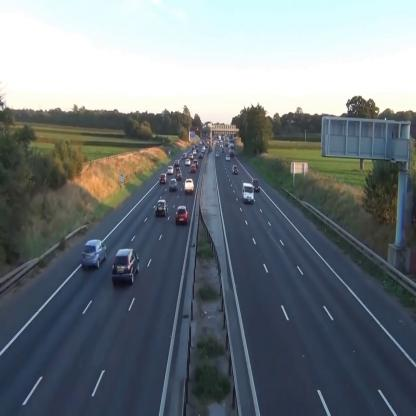car: (112, 248, 140, 284), (82, 240, 106, 270), (175, 206, 189, 224), (155, 200, 168, 216), (185, 179, 194, 193), (169, 178, 178, 190), (252, 178, 260, 191), (160, 174, 167, 184), (168, 164, 173, 176), (232, 165, 238, 174), (176, 170, 182, 178), (174, 159, 180, 166), (191, 164, 196, 172), (188, 152, 193, 159), (194, 160, 198, 168), (186, 158, 190, 166), (226, 154, 230, 161)
lorry: (242, 182, 254, 204)
